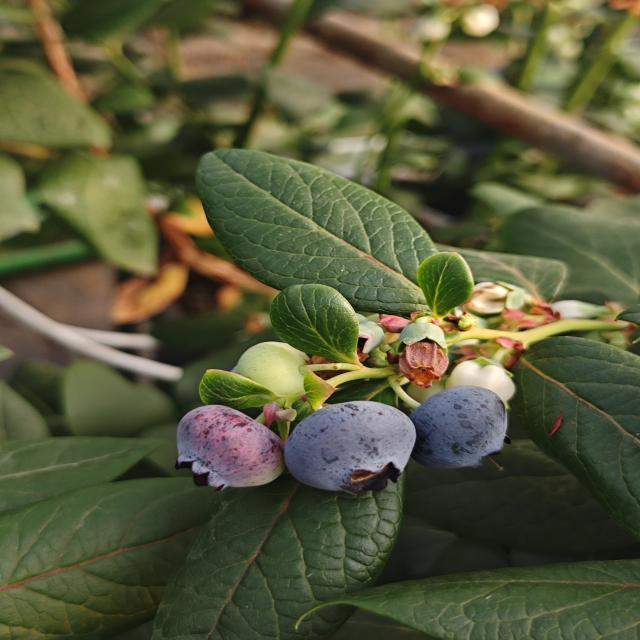ripe: (282, 398, 418, 496), (172, 403, 286, 493), (407, 384, 511, 471)
